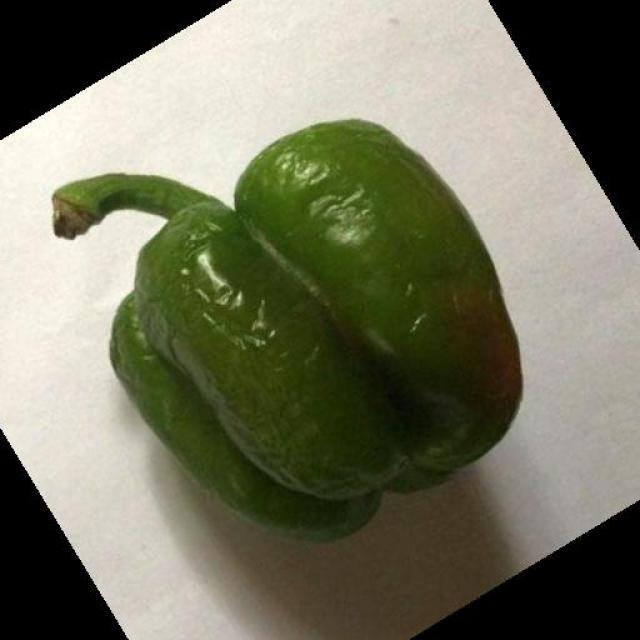Stale_Capsicum: (100, 136, 515, 538)
